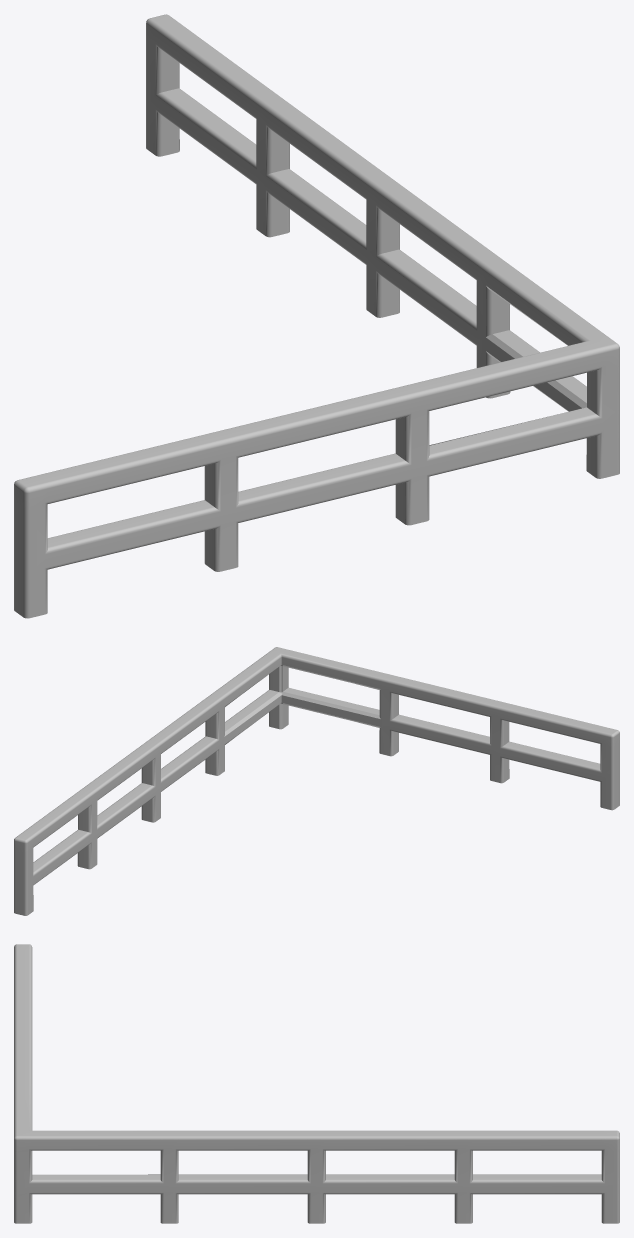
The model's file is Rail_RightCorner.fbx.
3 renders of one model, top to bottom at view 1: azimuth 30°, elevation 25°; view 2: azimuth 150°, elevation 25°; view 3: azimuth 270°, elevation 25°, orthographic. The views are drawn at different scales.
Parts seen in each view (by area): view 1: Rail_RightCorner; view 2: Rail_RightCorner; view 3: Rail_RightCorner.
Part boxes in pixels (x1,y1,x2,y2): Rail_RightCorner: [14, 14, 619, 618]; Rail_RightCorner: [14, 647, 619, 915]; Rail_RightCorner: [14, 944, 619, 1223].
Size of the model in its own units: 1.78 by 0.3702 by 2.35.
1 material, 1 textured.
